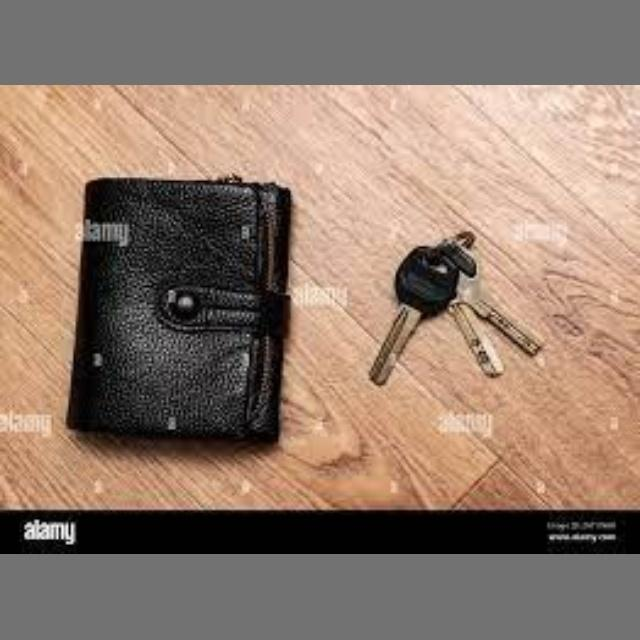Wallet: (57, 144, 325, 476)
